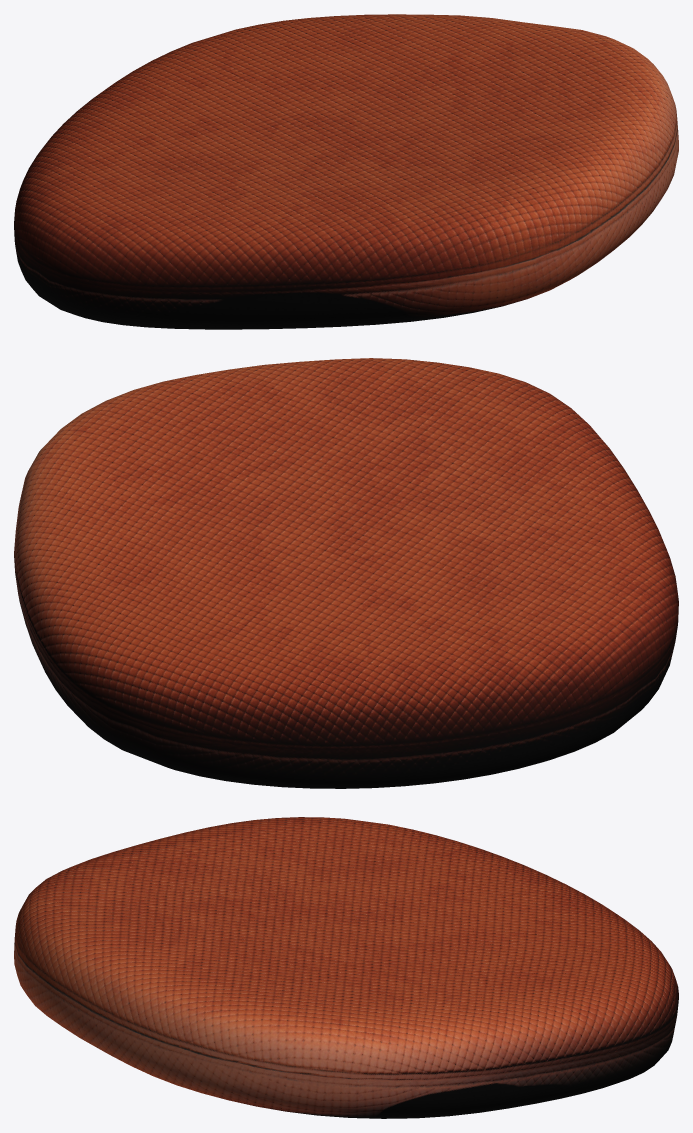
File: cushion_b.glb
3 renders of one model, top to bottom at view 1: azimuth 30°, elevation 25°; view 2: azimuth 150°, elevation 25°; view 3: azimuth 270°, elevation 25°, orthographic. The views are drawn at different scales.
Visible parts, largest first — view 1: cushion; view 2: cushion; view 3: cushion.
Part boxes in pixels (x1,y1,x2,y2): cushion: (14,14,678,329); cushion: (14,358,678,788); cushion: (14,817,678,1118).
Bounding box in the file's own units: 0.7921 × 0.2156 × 0.7935.
1 material, 1 textured.
